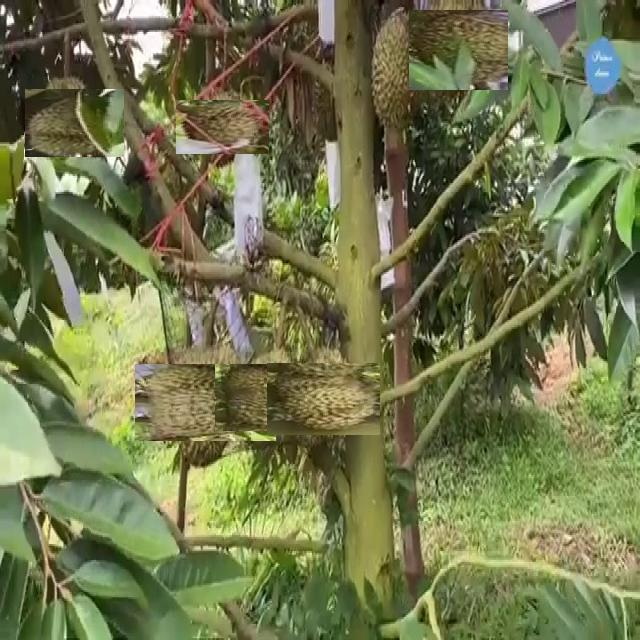durian: (151, 348, 261, 457), (277, 353, 370, 445), (367, 4, 428, 142), (227, 352, 318, 444), (413, 5, 503, 95), (32, 81, 116, 164), (185, 90, 259, 164)
